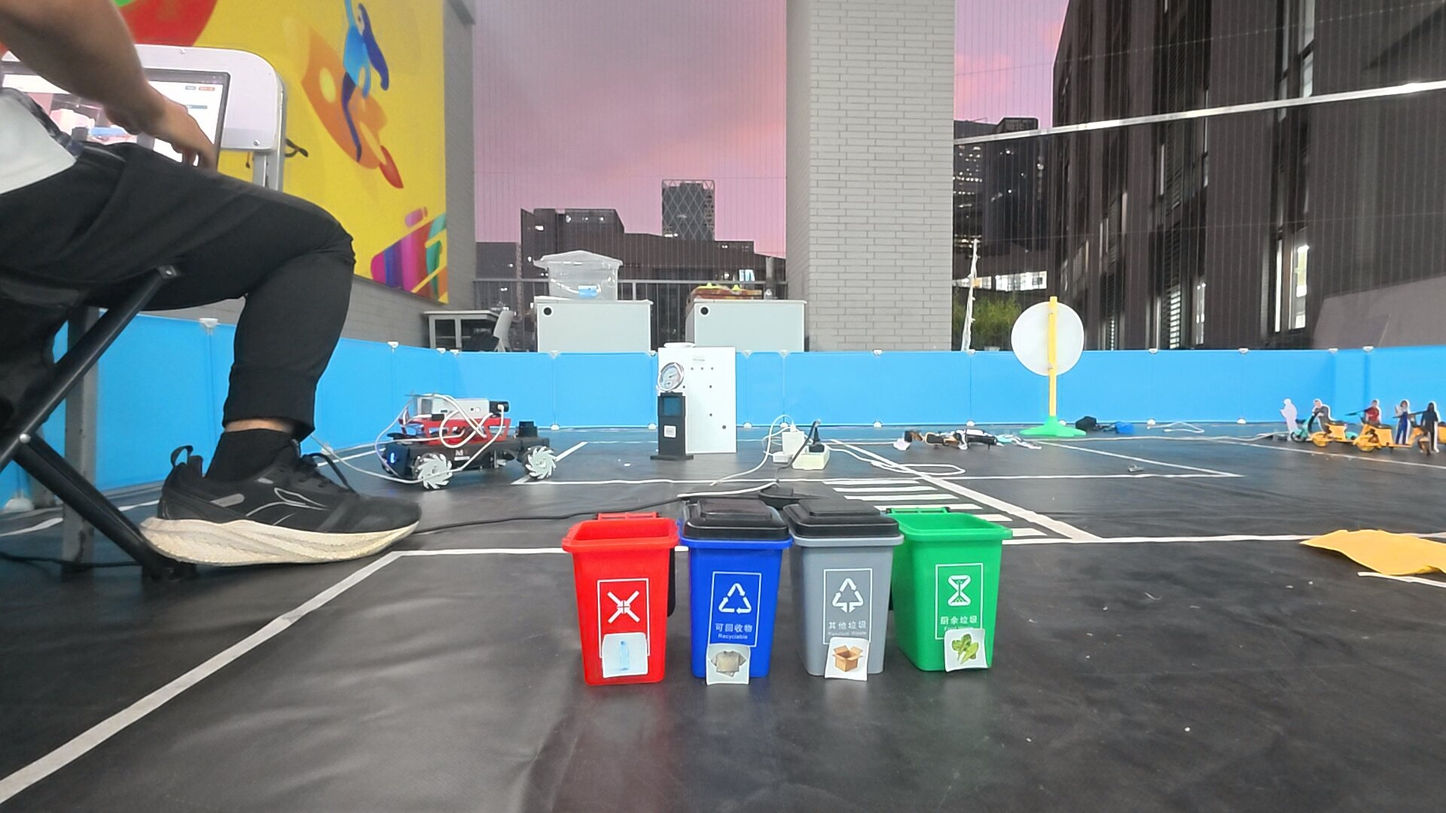food_trash: (947, 629, 987, 670)
recyclable_trash: (829, 637, 869, 680), (707, 643, 749, 683), (605, 635, 642, 677)
